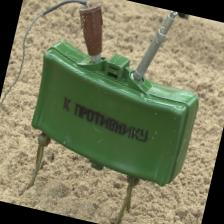MOH-50: (7, 44, 201, 188)
